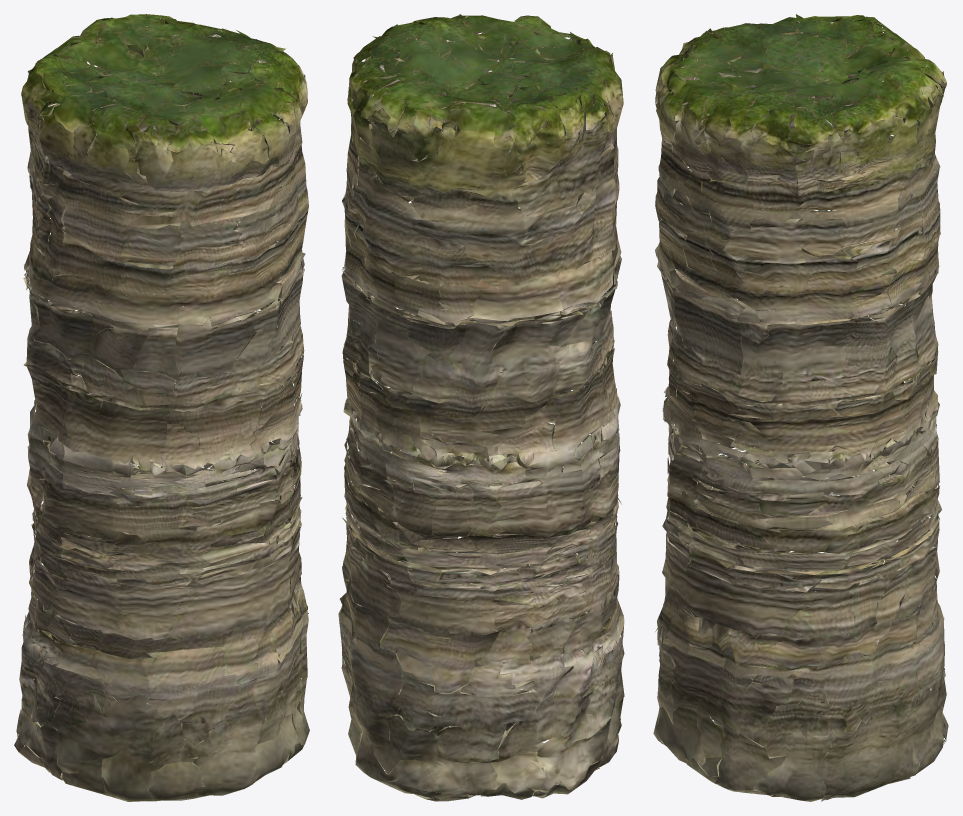
The model's file is stromatolite2.glb.
3 renders of one model, left to right at view 1: azimuth 30°, elevation 25°; view 2: azimuth 150°, elevation 25°; view 3: azimuth 270°, elevation 25°, orthographic.
Visible parts, largest first — view 1: Mesh_0; view 2: Mesh_0; view 3: Mesh_0.
Part boxes in pixels (x1,y1,x2,y2): Mesh_0: (14, 14, 309, 801); Mesh_0: (338, 14, 624, 801); Mesh_0: (653, 14, 948, 801).
Bounding box in the file's own units: 0.3825 × 1.01 × 0.3844.
1 material, 1 textured.
